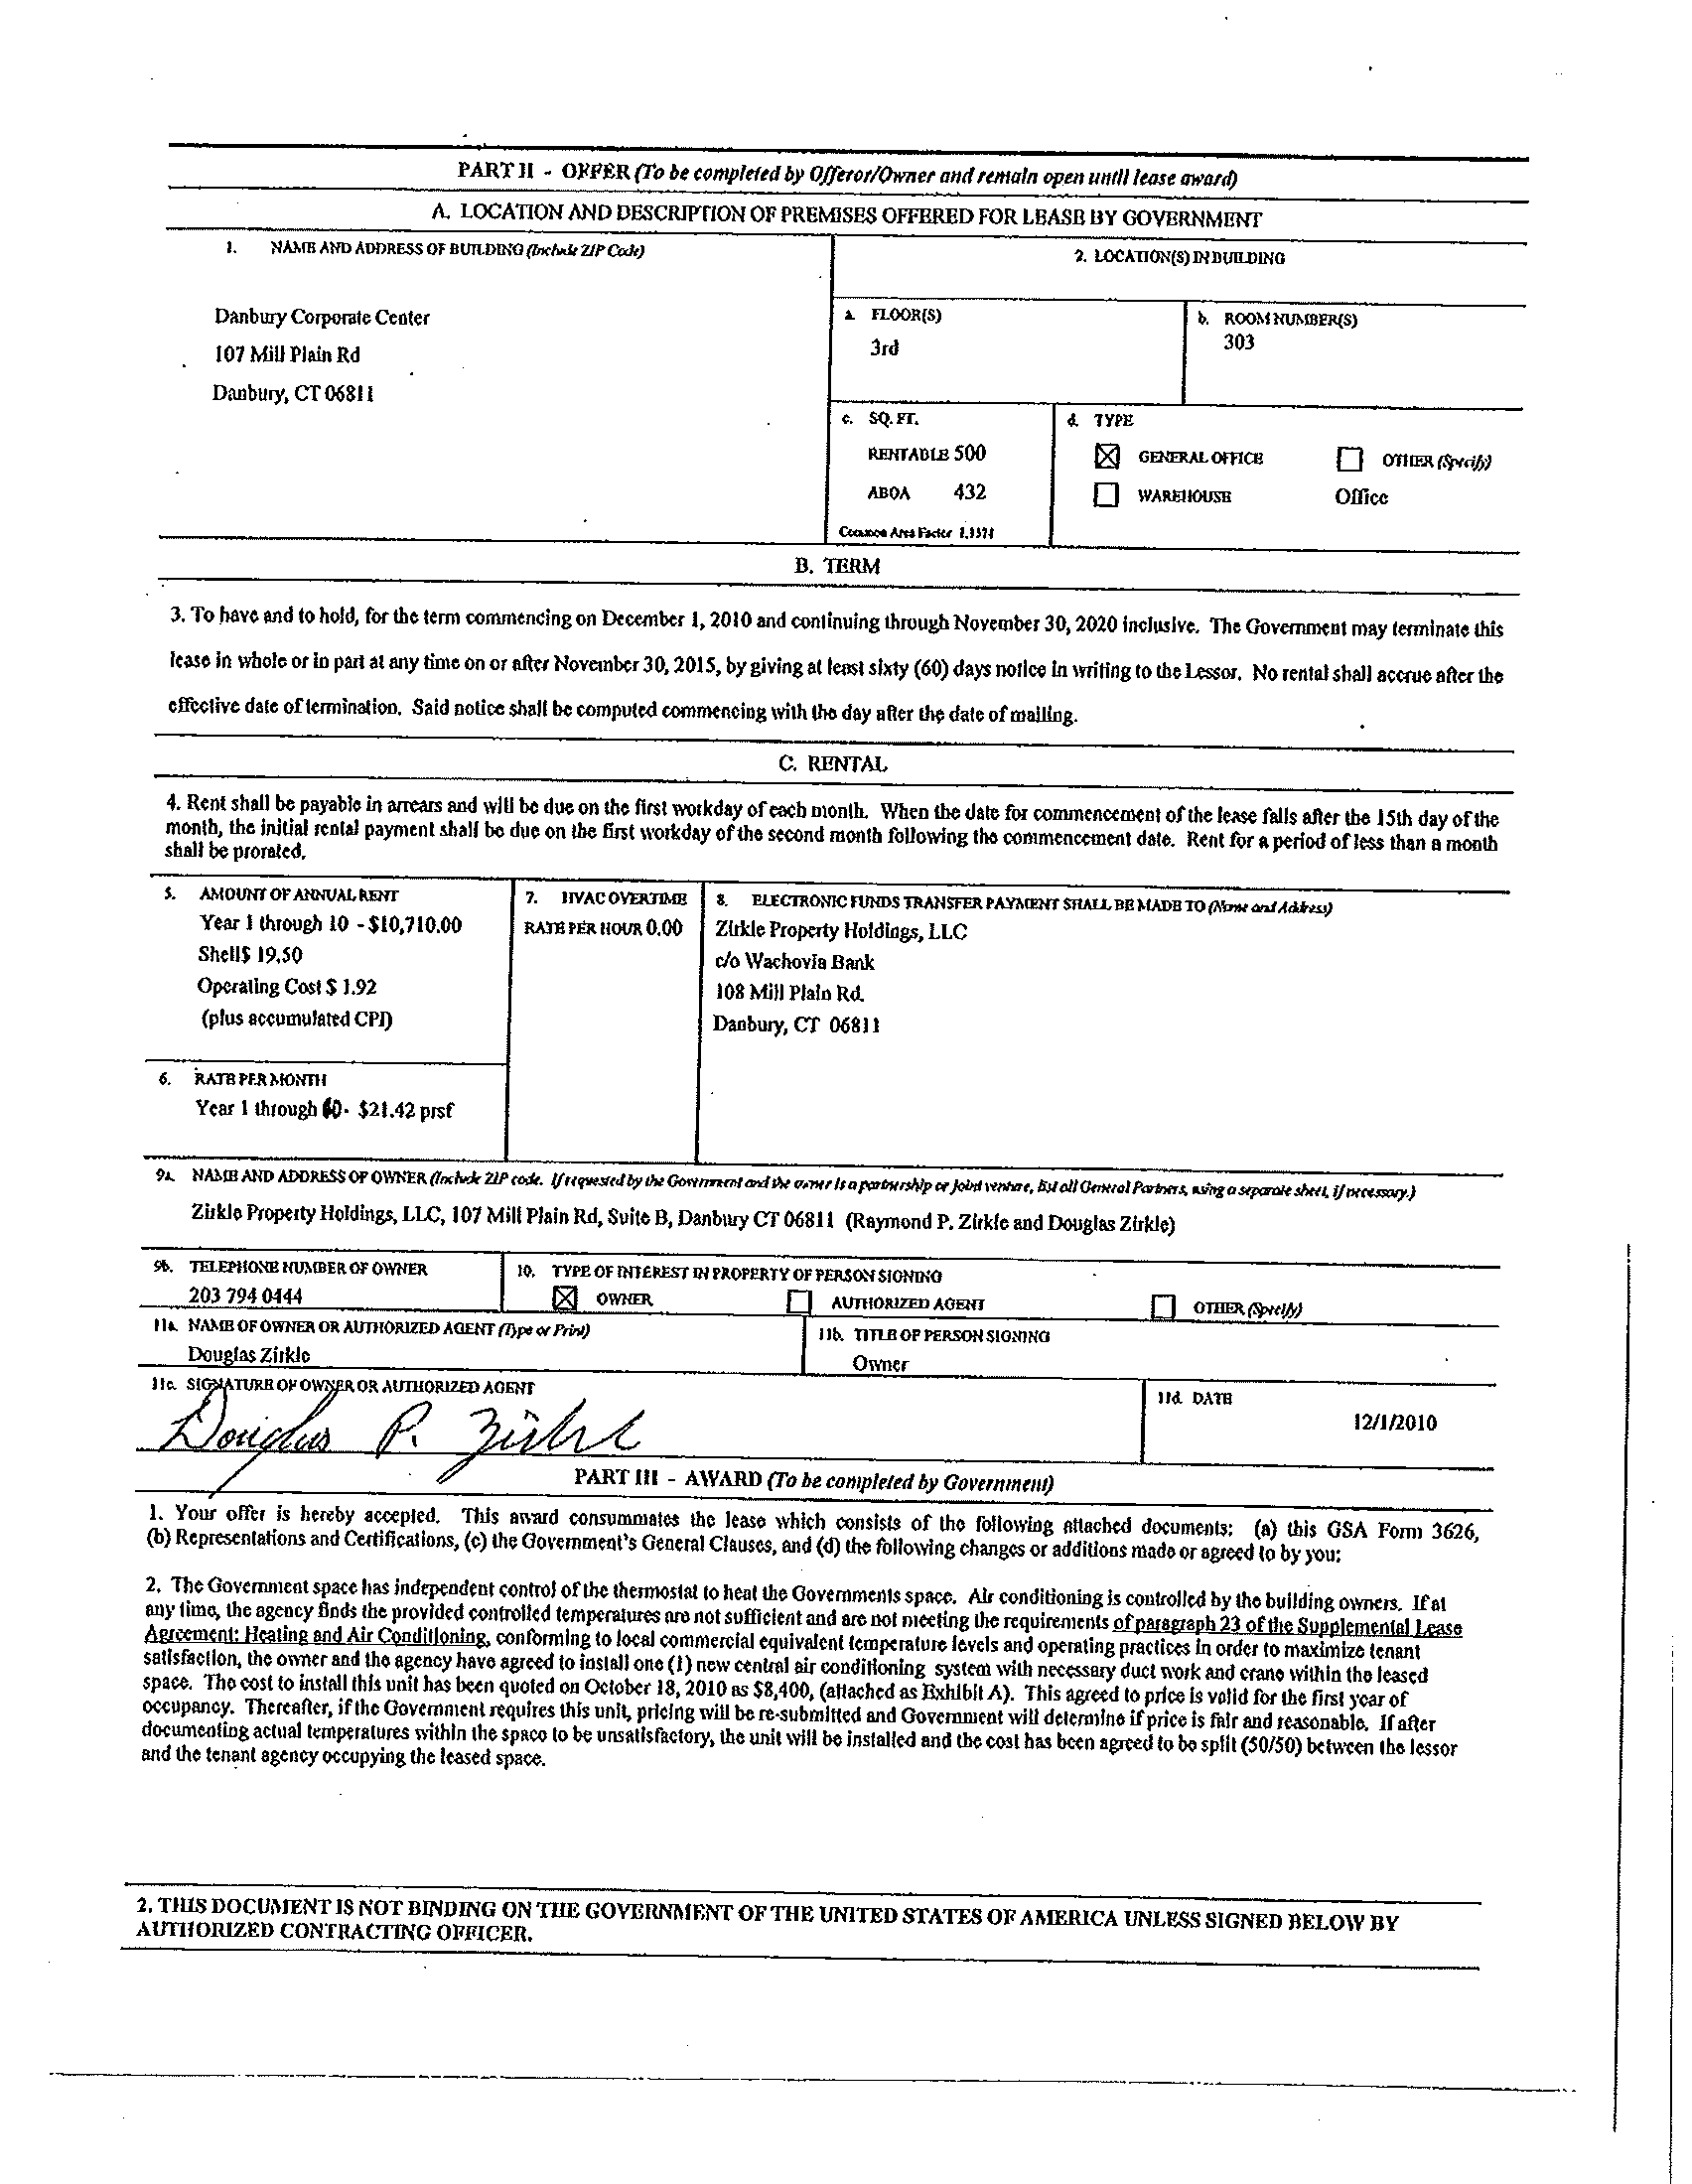handwritten: (153, 1372, 669, 1489)
